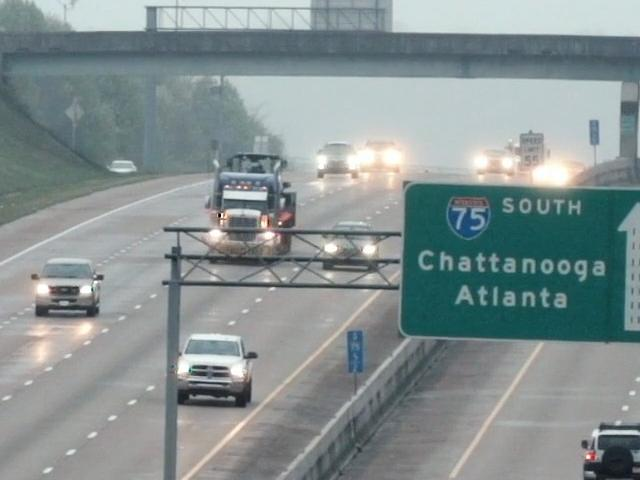car: (182, 328, 258, 410), (32, 257, 110, 325), (315, 216, 389, 266), (581, 420, 640, 480), (313, 136, 359, 185), (361, 125, 401, 174), (471, 142, 511, 180)
truck: (205, 158, 297, 264)
